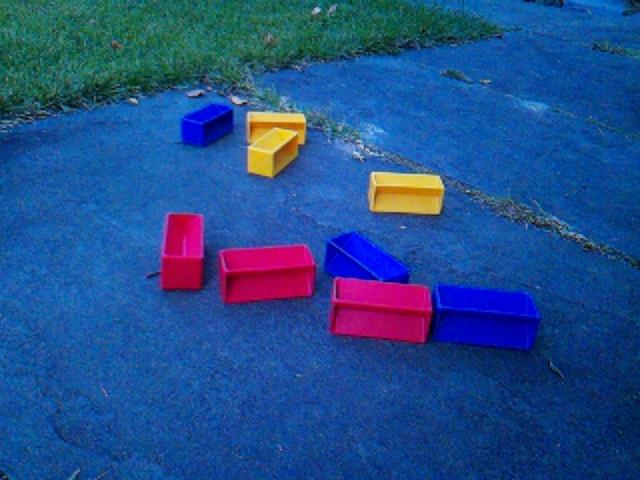blue: (432, 282, 542, 352), (324, 229, 411, 284), (180, 101, 235, 148)
red: (329, 276, 434, 345), (218, 243, 317, 305), (160, 211, 206, 292)
yellow: (367, 170, 446, 217), (247, 126, 300, 179), (246, 110, 307, 146)
